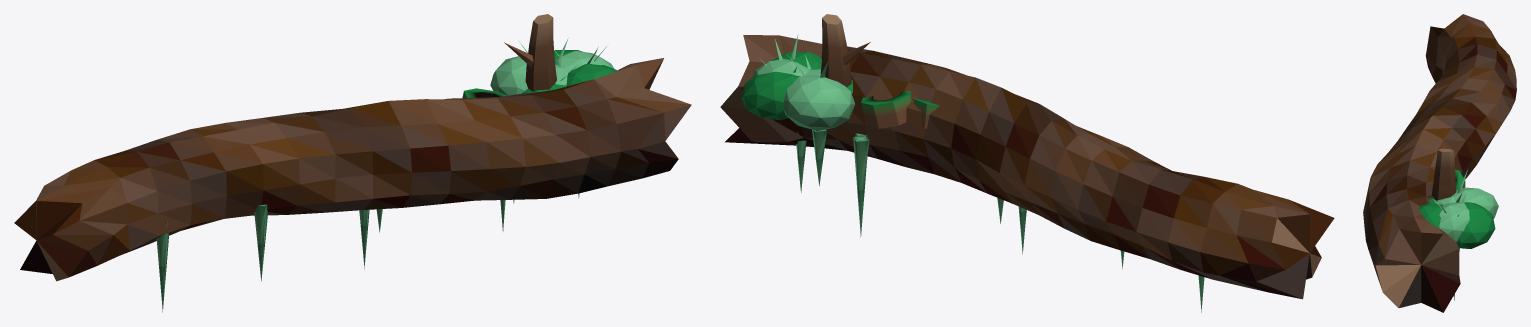
File: pohon_tumbang_bridge_rainforest_175786.glb
3 views of the same model, side by side, from view 1: azimuth 30°, elevation 25°; view 2: azimuth 150°, elevation 25°; view 3: azimuth 270°, elevation 25° (orthographic). The views are drawn at different scales.
Parts seen in each view (by area): view 1: Batang_Melintang_Sungai; view 2: Batang_Melintang_Sungai; view 3: Batang_Melintang_Sungai.
Boxes of the visible parts, <box> form: Batang_Melintang_Sungai: <box>14,14,691,312</box>; Batang_Melintang_Sungai: <box>720,14,1334,312</box>; Batang_Melintang_Sungai: <box>1363,14,1516,312</box>.
Bounding box in the file's own units: 8.6 × 2.85 × 2.38.
